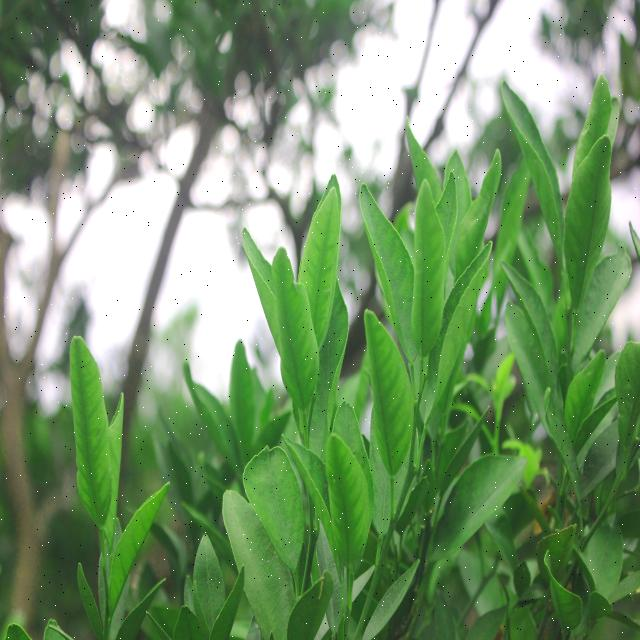greening: (364, 306, 414, 464), (320, 424, 370, 578), (66, 342, 111, 509), (273, 245, 318, 405), (411, 187, 445, 343)
